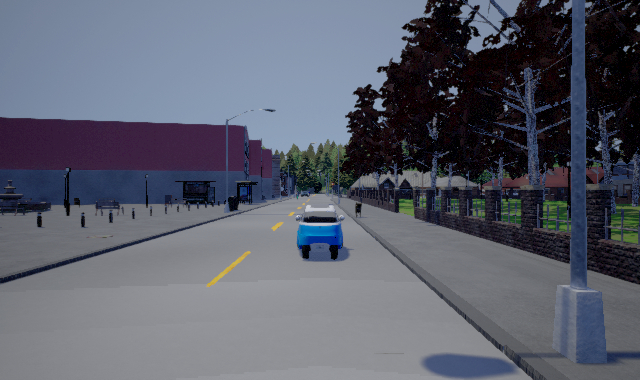vehicle: (295, 203, 344, 260)
